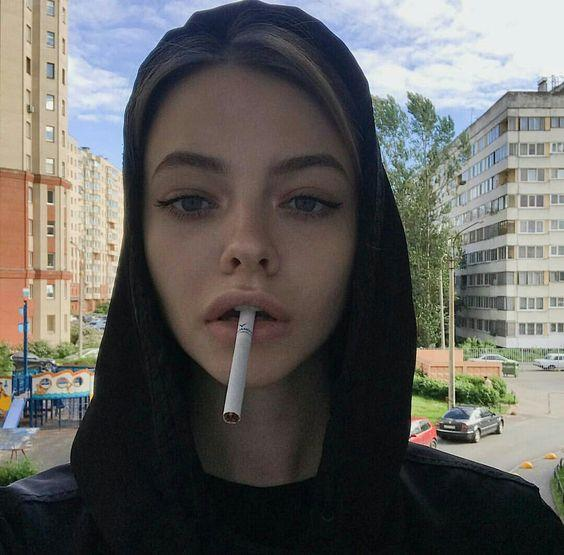cigarette: (222, 309, 256, 425)
